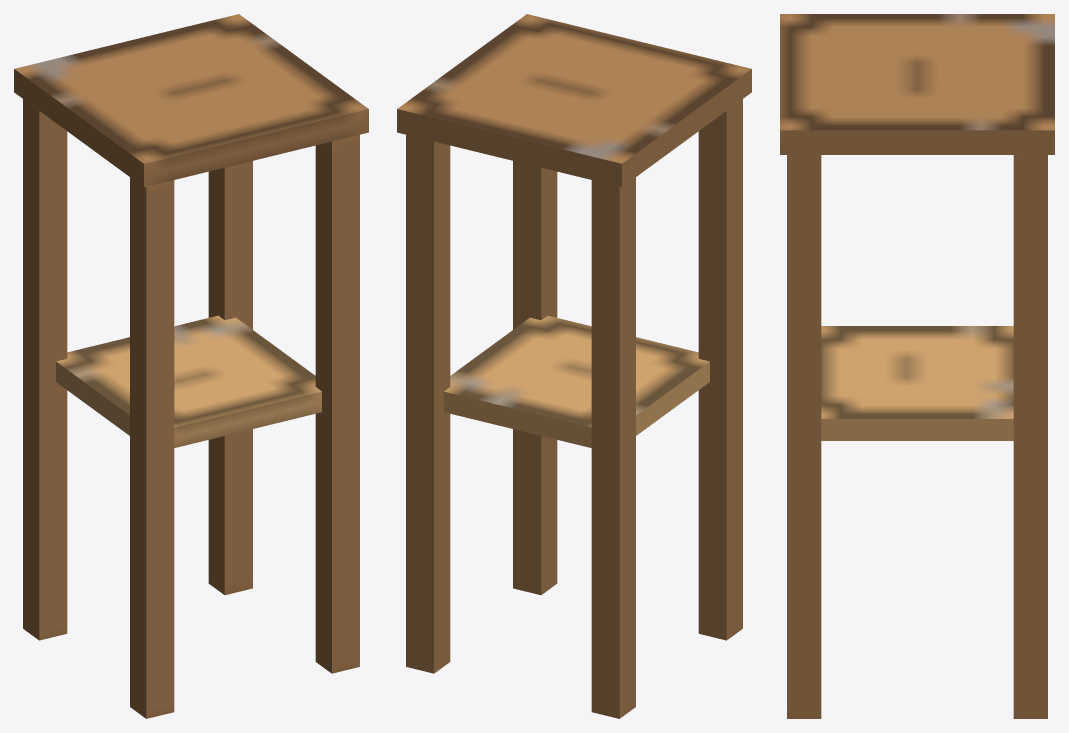
Rendered from PlantStandTall.obj.
3 renders of one model, left to right at view 1: azimuth 30°, elevation 25°; view 2: azimuth 150°, elevation 25°; view 3: azimuth 270°, elevation 25°, orthographic. The views are drawn at different scales.
Visible parts, largest first — view 1: PlantStandTall; view 2: PlantStandTall; view 3: PlantStandTall.
Boxes of the visible parts, left/top/right/bottom form: PlantStandTall: left=14, top=14, right=368, bottom=718; PlantStandTall: left=397, top=14, right=751, bottom=718; PlantStandTall: left=780, top=14, right=1054, bottom=718.
Bounding box in the file's own units: 0.4 × 0.95 × 0.4.
Materials: 1 (1 with a texture image).
